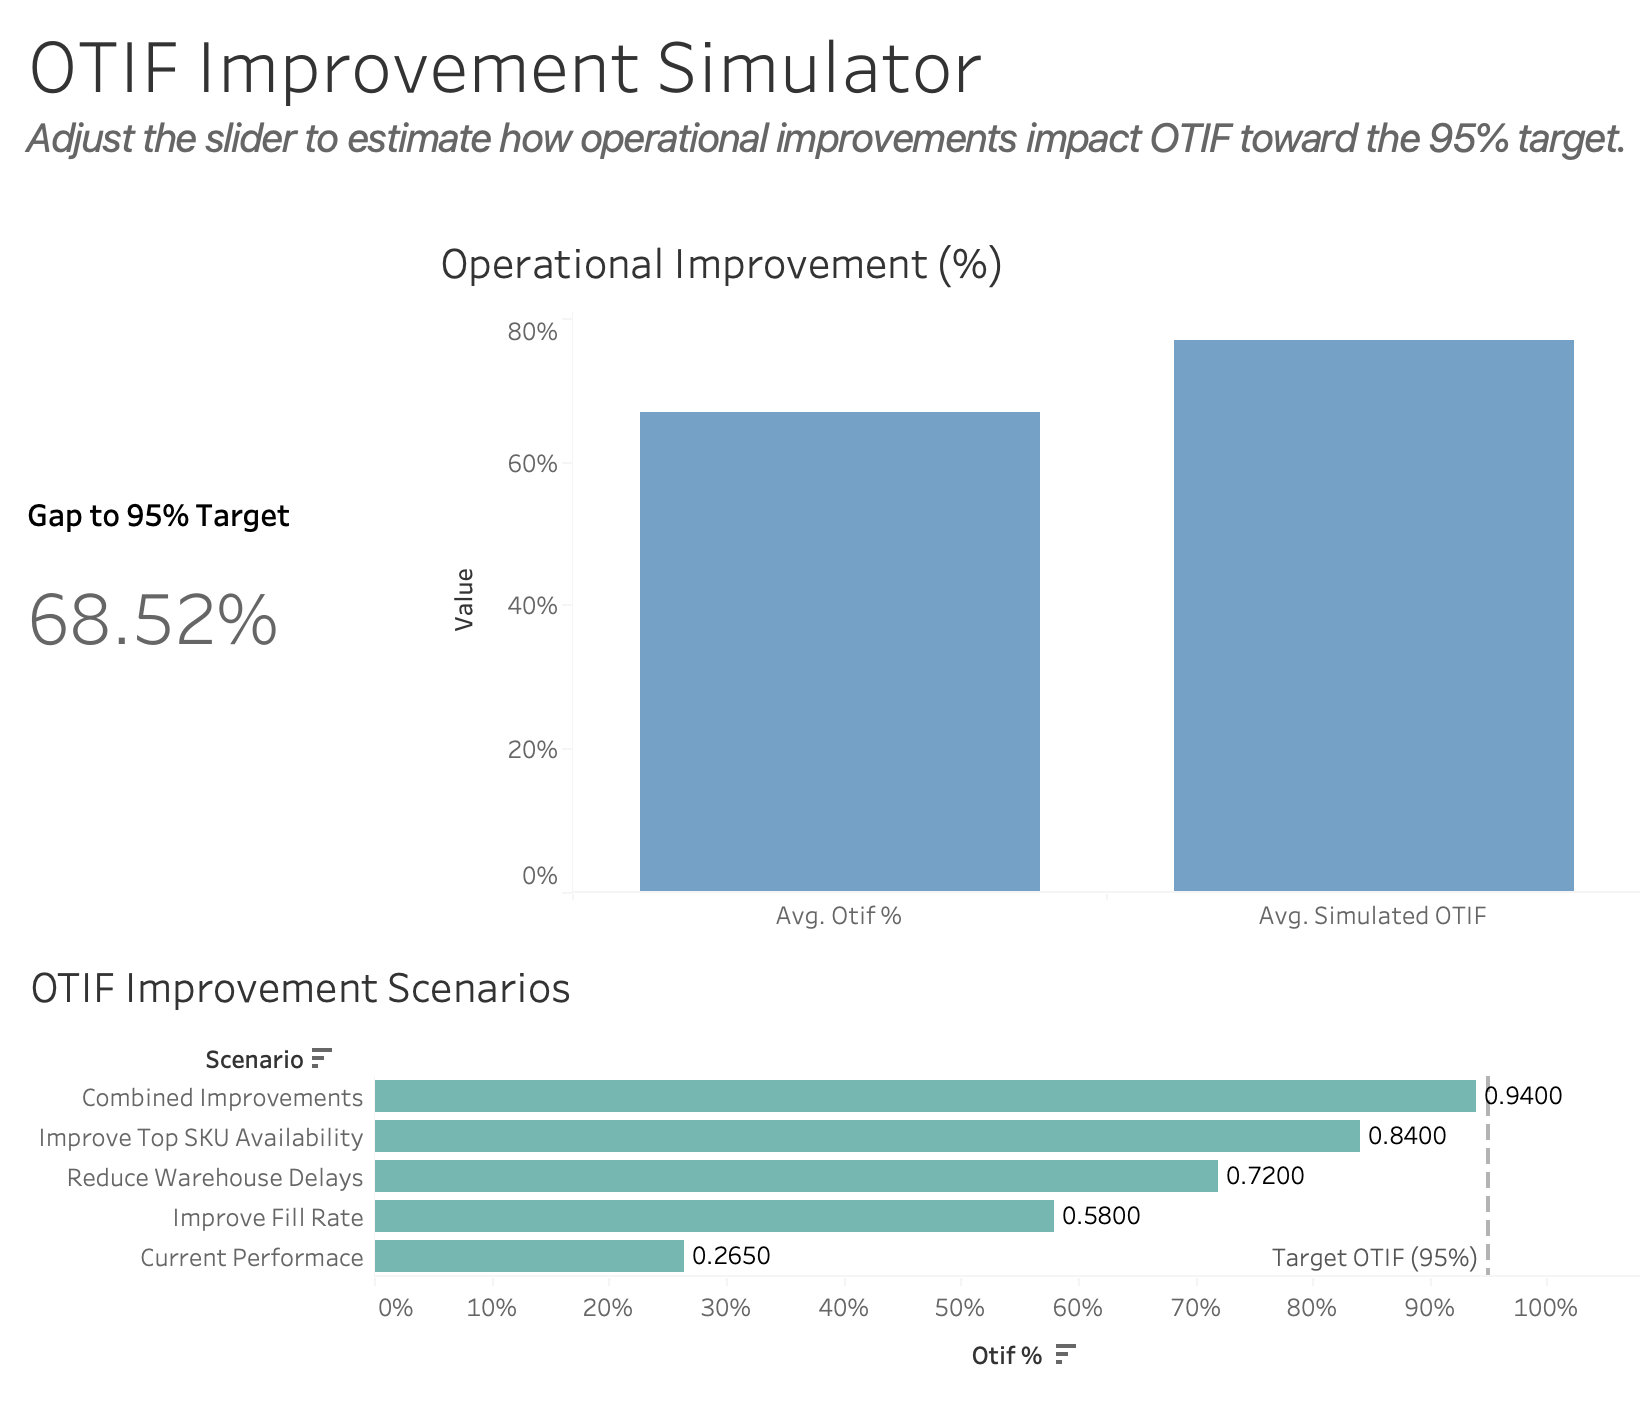

The page's visual inventory and layout, read from the dashboard file:
{"tool":"tableau","page":{"name":"Dashboard: Improvement Simulator","canvas":[1000,1000],"units":"permille","ordinal":1},"visuals":[{"type":"text","box":[6.7,10.7,680.8,172]},{"type":"parameter","param":"[Parameters].[Parameter 1]","box":[687.5,10.7,305.8,100]},{"type":"text","box":[6.7,182.7,170.8,516]},{"type":"worksheet","title":"OTIF Simulation","mark":"Automatic","box":[177.5,182.7,510,516]},{"type":"worksheet","title":"OTIF Improvement Scenarios","mark":"Automatic","rows":["Scenario"],"cols":["OTIF"],"box":[6.7,698.7,680.8,290.7]}]}

Visuals, with their boxes on the dashboard's canvas, which has no fixed pixel size, in thousandths of its width and height (x1, y1, x2, y2). These are canvas units, not pixel positions in the 1640x1420 screenshot, which may show the page scaled, cropped or inside an application window:
text: {"x1": 7, "y1": 11, "x2": 688, "y2": 183}
parameter: {"x1": 688, "y1": 11, "x2": 993, "y2": 111}
text: {"x1": 7, "y1": 183, "x2": 178, "y2": 699}
"OTIF Simulation" worksheet: {"x1": 178, "y1": 183, "x2": 688, "y2": 699}
"OTIF Improvement Scenarios" worksheet: {"x1": 7, "y1": 699, "x2": 688, "y2": 989}
